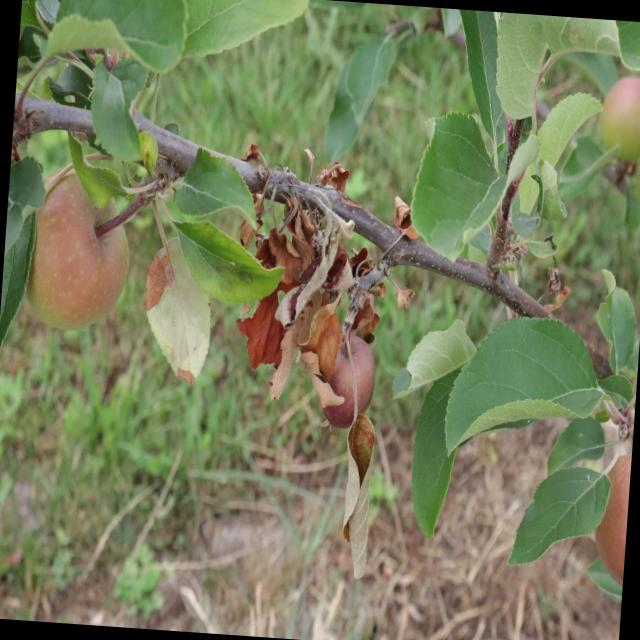-FireBlight-: (219, 158, 397, 578)
